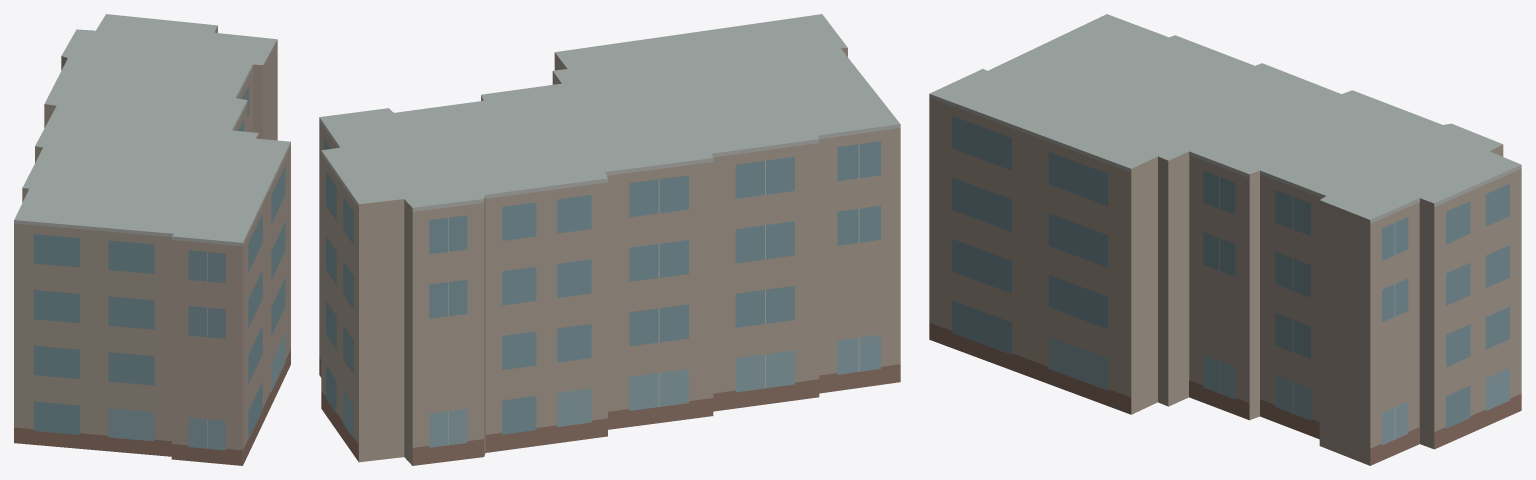
File: survey-upis-32500098.glb
3 renders of one model, left to right at view 1: azimuth 30°, elevation 25°; view 2: azimuth 150°, elevation 25°; view 3: azimuth 270°, elevation 25°, orthographic. The views are drawn at different scales.
Visible parts, largest first — view 1: survey-upis-32500098.tmp; view 2: survey-upis-32500098.tmp; view 3: survey-upis-32500098.tmp.
Part boxes in pixels (x1,y1,x2,y2): survey-upis-32500098.tmp: (14, 14, 290, 465); survey-upis-32500098.tmp: (319, 14, 900, 465); survey-upis-32500098.tmp: (929, 14, 1521, 465).
Bounding box in the file's own units: 28.3 × 15.75 × 34.39.
